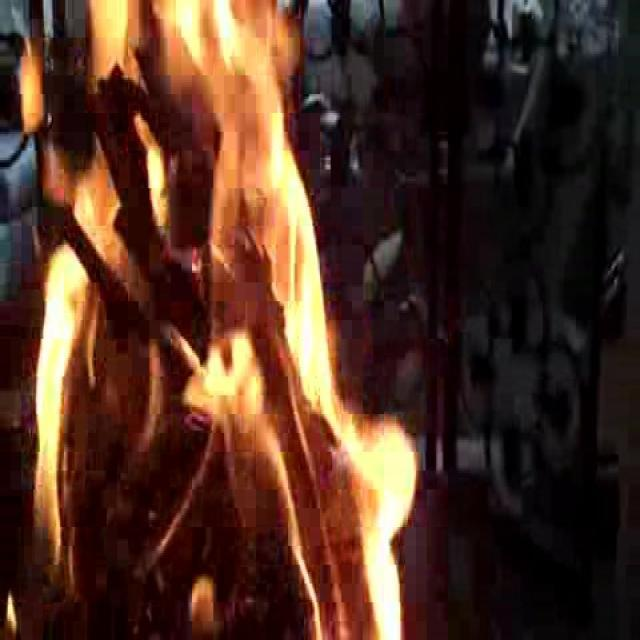Fire: (57, 2, 377, 627)
